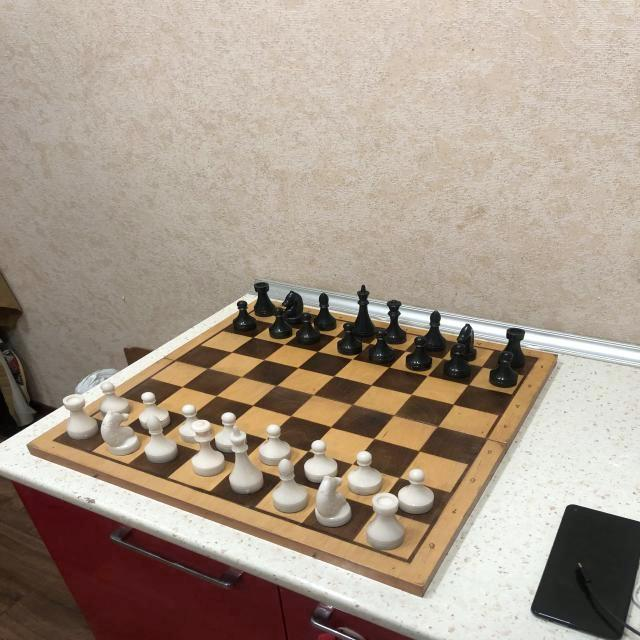chess-table-corners: (395, 551, 423, 570), (45, 433, 64, 448), (528, 353, 546, 364)
